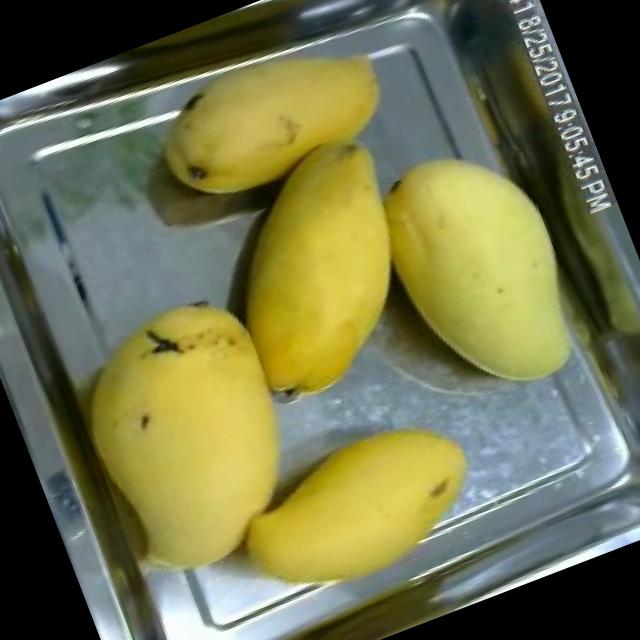fruit: (44, 284, 343, 606), (342, 110, 617, 440), (180, 118, 458, 427), (207, 388, 506, 629), (139, 11, 411, 227)
